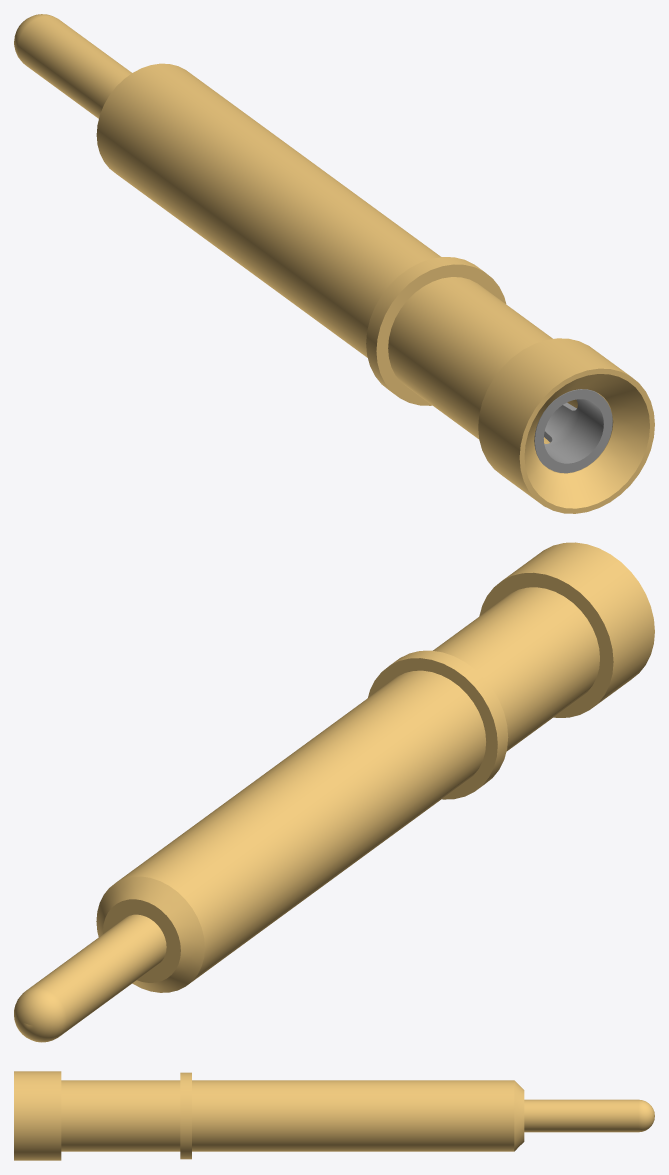
File: MediumMachinePin v2.glb
3 views of the same model, one above another, from view 1: azimuth 30°, elevation 25°; view 2: azimuth 150°, elevation 25°; view 3: azimuth 270°, elevation 25° (orthographic). The views are drawn at different scales.
Parts seen in each view (by area): view 1: MediumMachinePin, MediumMachineContact v1; view 2: MediumMachinePin; view 3: MediumMachinePin.
Part boxes in pixels (bbox=[...]): MediumMachinePin: bbox=[14, 14, 654, 513]; MediumMachineContact v1: bbox=[534, 389, 612, 473]; MediumMachinePin: bbox=[14, 542, 654, 1042]; MediumMachinePin: bbox=[14, 1071, 654, 1160].
Size of the model in its own units: 0.00151 by 0.00151 by 0.0108.
